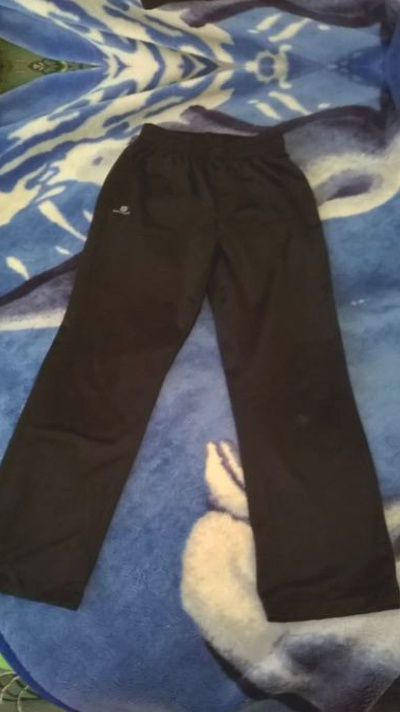Pants: (0, 112, 387, 629), (0, 0, 388, 20)
